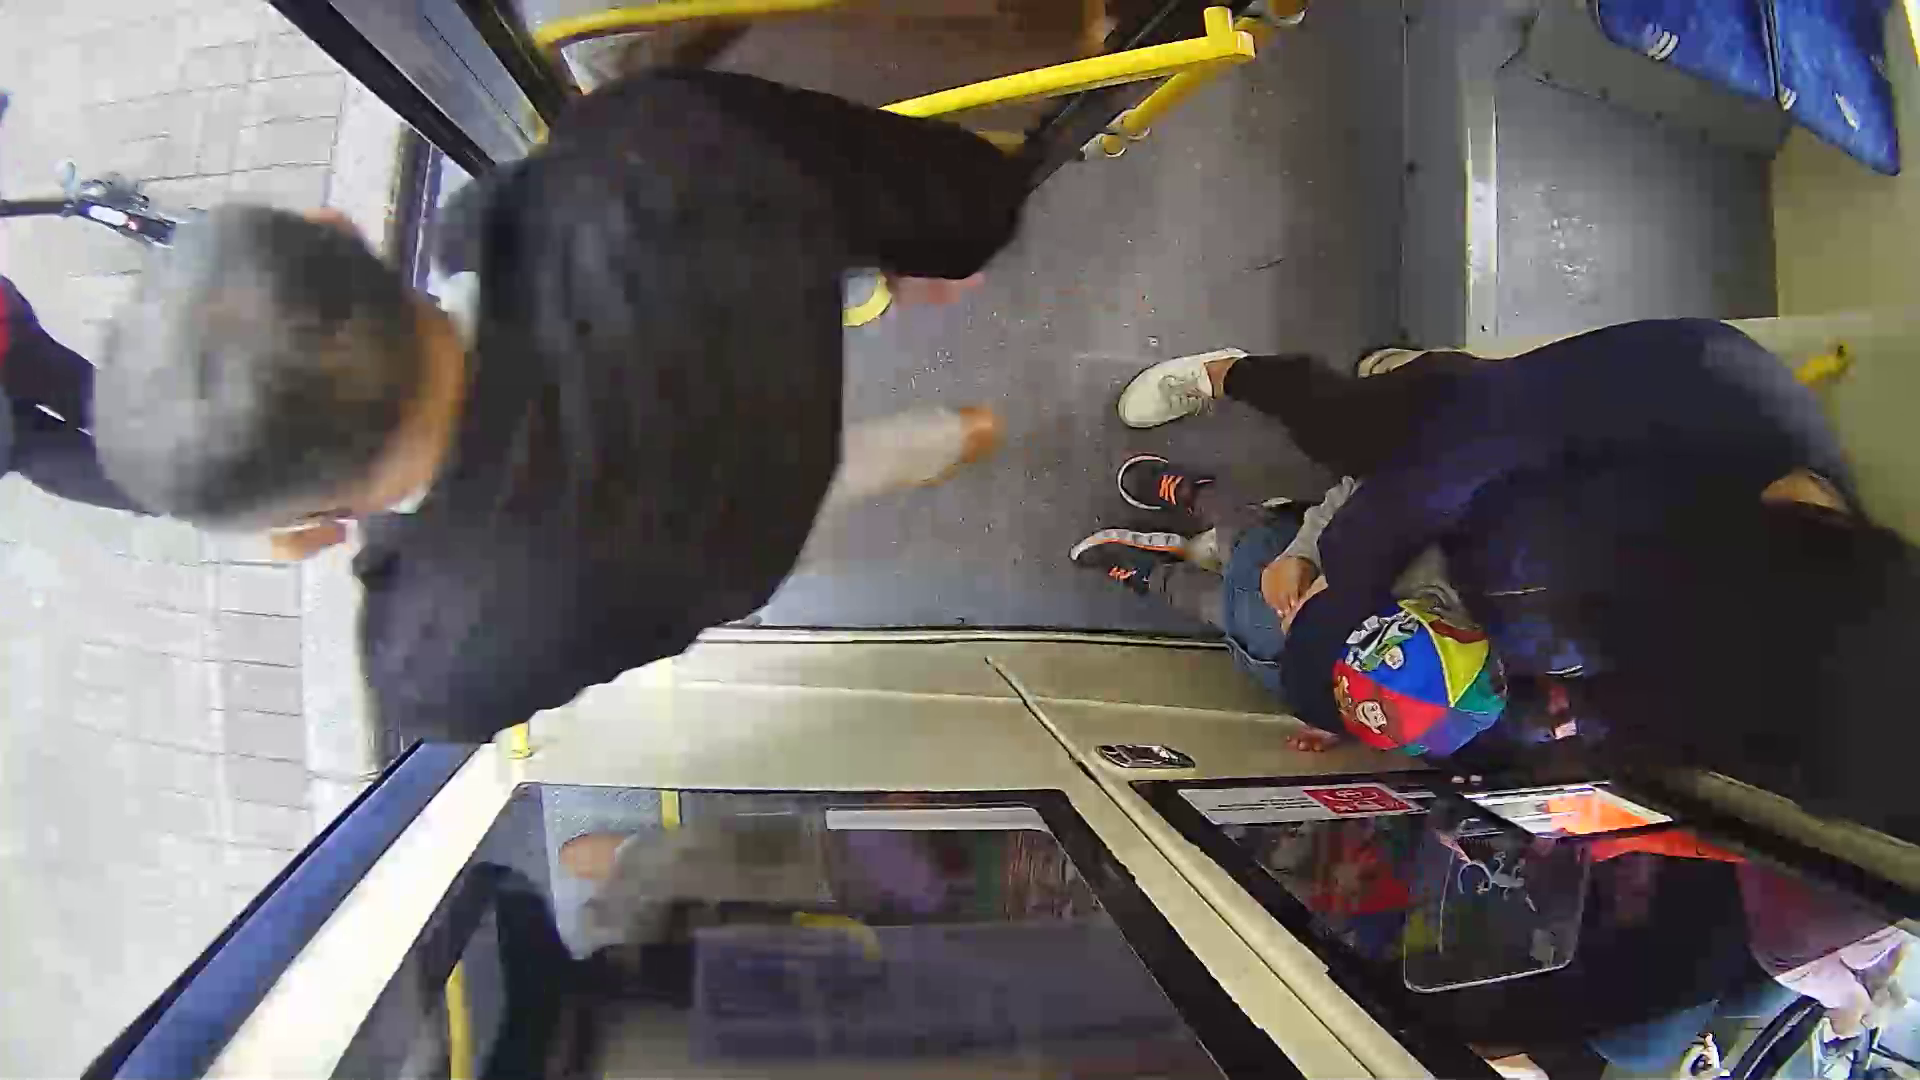person: (109, 95, 974, 729)
